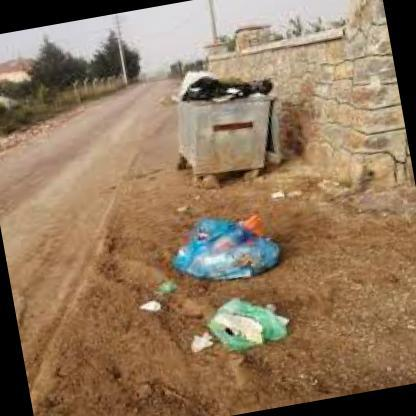Garbage: (143, 201, 292, 298), (191, 292, 314, 358), (180, 50, 284, 111), (134, 292, 170, 318)
